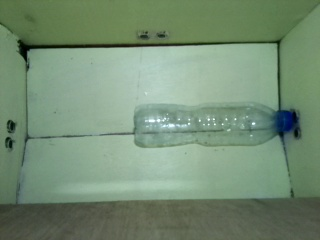bottle: (133, 99, 294, 147)
